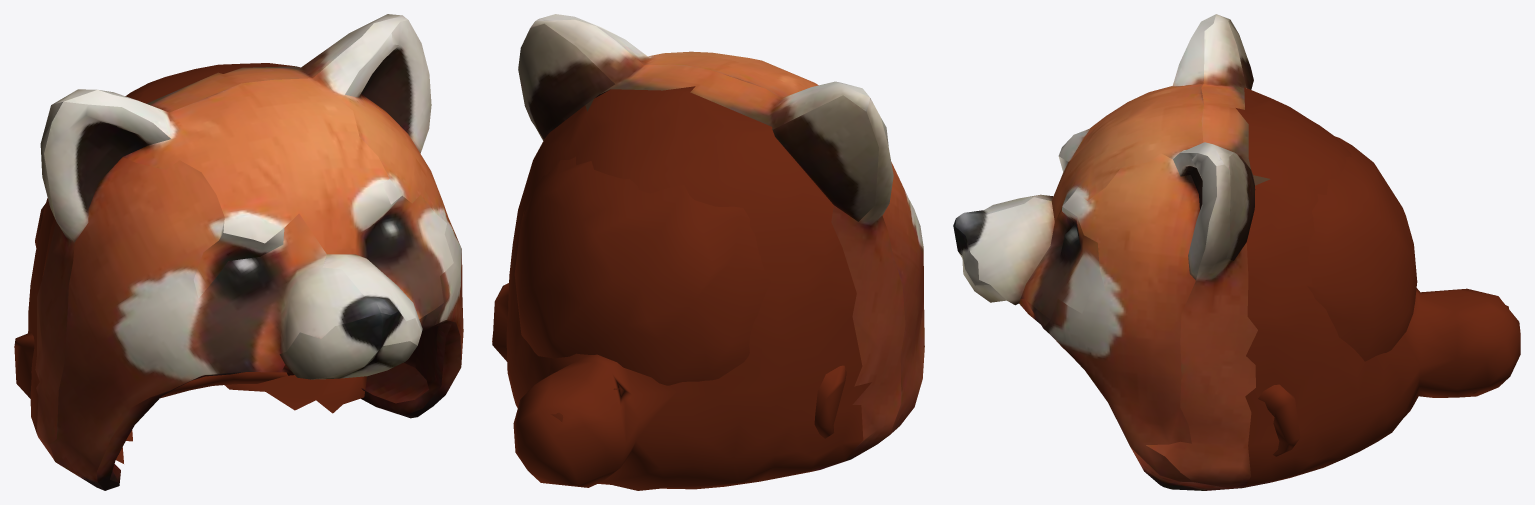
Rendered from red-panda.glb.
3 views of the same model, side by side, from view 1: azimuth 30°, elevation 25°; view 2: azimuth 150°, elevation 25°; view 3: azimuth 270°, elevation 25° (orthographic). The views are drawn at different scales.
Visible parts, largest first — view 1: geometry_0, HoodAnatomicalLining; view 2: geometry_0, HoodAnatomicalLining; view 3: geometry_0, HoodAnatomicalLining.
Boxes of the visible parts, box(x1,y1,x2,y2) form: geometry_0: box(28, 14, 463, 490); HoodAnatomicalLining: box(14, 96, 366, 463); geometry_0: box(506, 14, 924, 490); HoodAnatomicalLining: box(492, 139, 846, 438); geometry_0: box(953, 14, 1520, 490); HoodAnatomicalLining: box(1249, 136, 1417, 456).
Bounding box in the file's own units: 0.4965 × 0.4813 × 0.7133.
2 materials, 1 textured.
